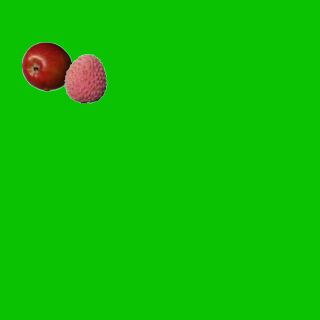Apple Braeburn: (21, 41, 71, 91)
Lychee: (60, 53, 110, 103)
